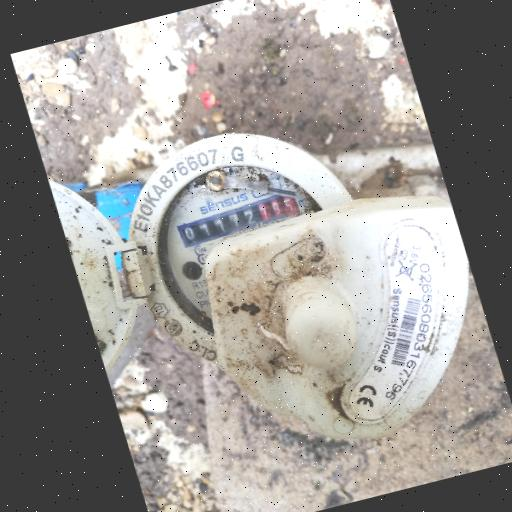0: (181, 224, 200, 247)
1: (212, 216, 229, 236), (199, 220, 215, 240)
2: (241, 207, 258, 227)
5: (281, 193, 299, 217)
7: (227, 211, 244, 230), (257, 201, 273, 221)
9: (269, 197, 285, 217)
border_water_meter_number: (169, 190, 305, 254)
